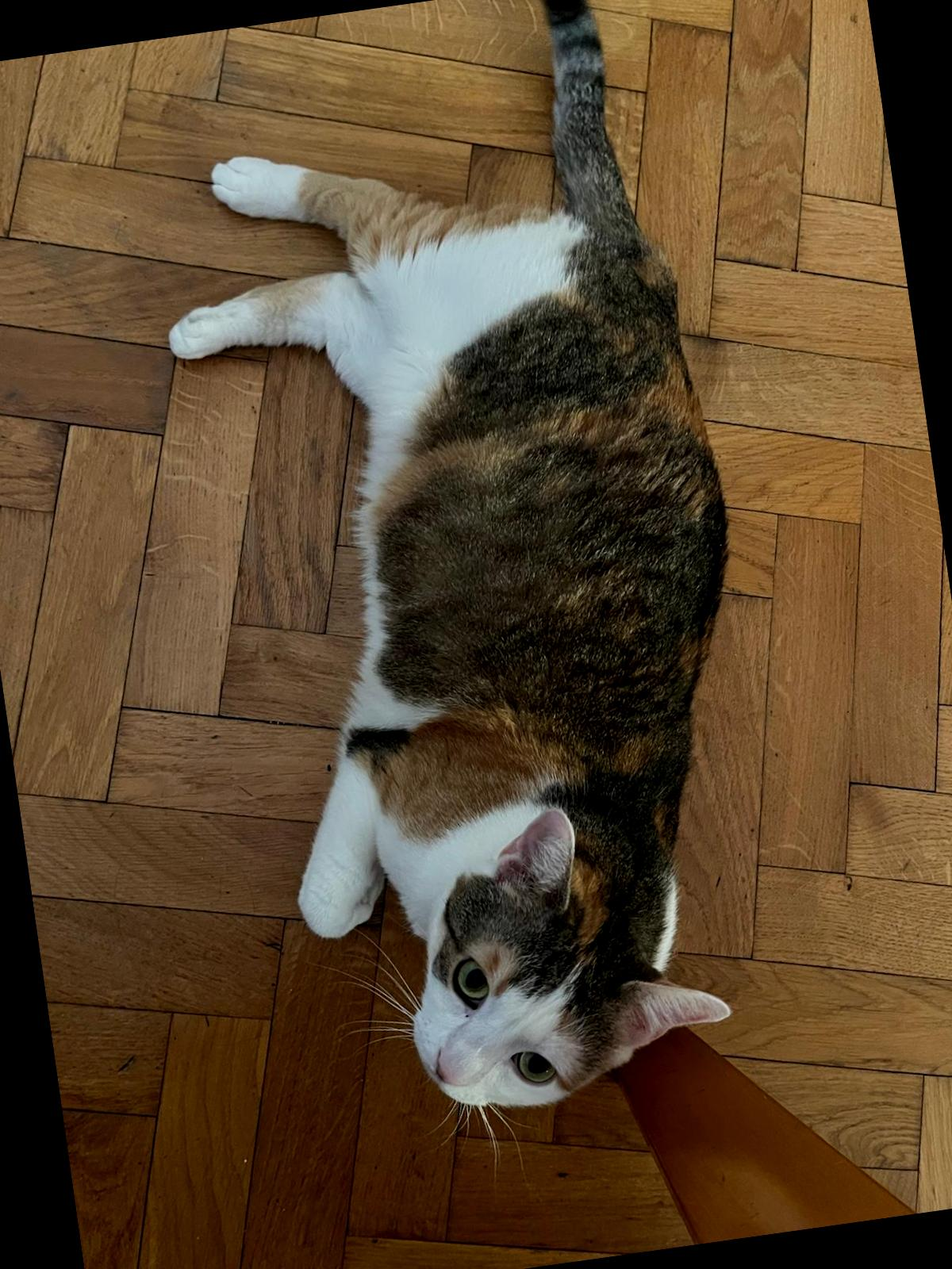macka: (126, 0, 808, 1143)
